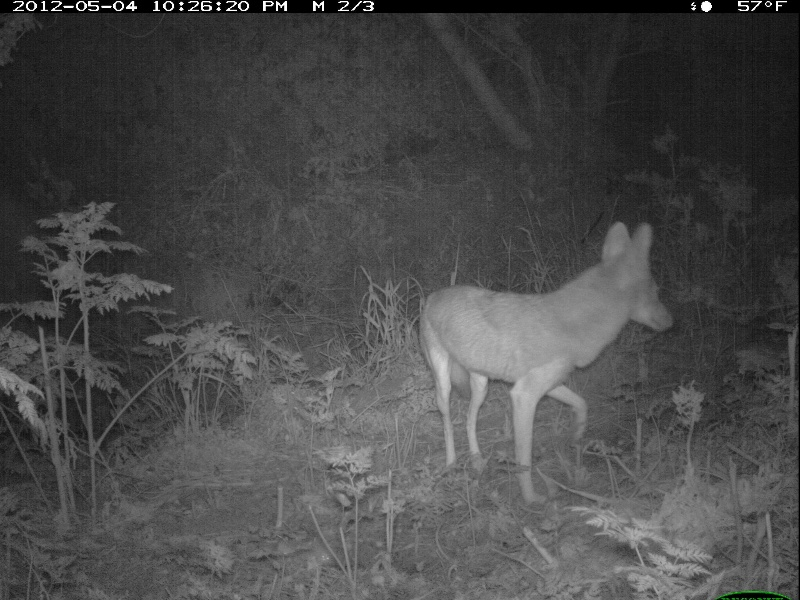coyote: (416, 218, 676, 505)
